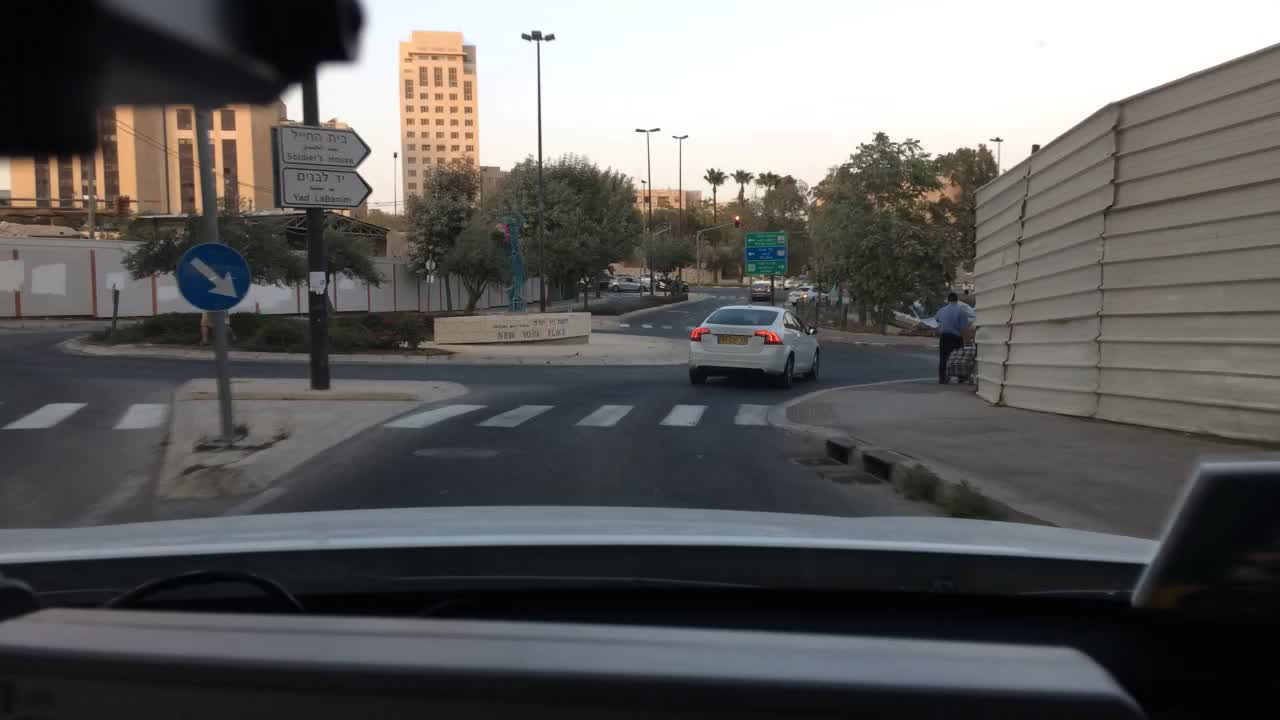car: (687, 306, 821, 387), (872, 299, 938, 331), (751, 280, 776, 301), (790, 284, 815, 302), (959, 303, 977, 326), (659, 278, 688, 291), (637, 275, 661, 288), (611, 275, 638, 286), (593, 275, 616, 287), (816, 287, 831, 302), (575, 280, 593, 291), (783, 276, 797, 288), (777, 275, 786, 287)
rider: (937, 293, 976, 384)
traffic light: (732, 214, 739, 230)
traffic sign: (273, 124, 371, 209), (173, 240, 251, 314), (744, 233, 787, 274), (108, 274, 122, 289), (423, 259, 436, 273), (425, 271, 433, 281)
